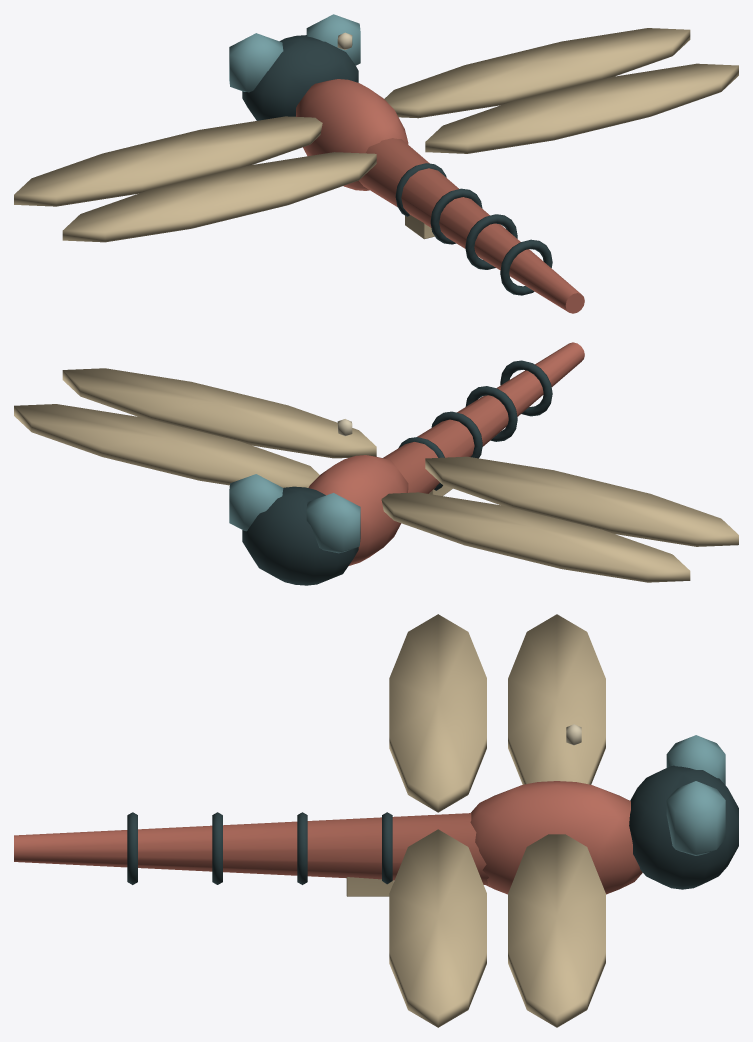
File: insect_dragonfly_red.glb
3 renders of one model, top to bottom at view 1: azimuth 30°, elevation 25°; view 2: azimuth 150°, elevation 25°; view 3: azimuth 270°, elevation 25°, orthographic. The views are drawn at different scales.
Bounding box in the file's own units: 0.2799 × 0.057 × 0.2136.
